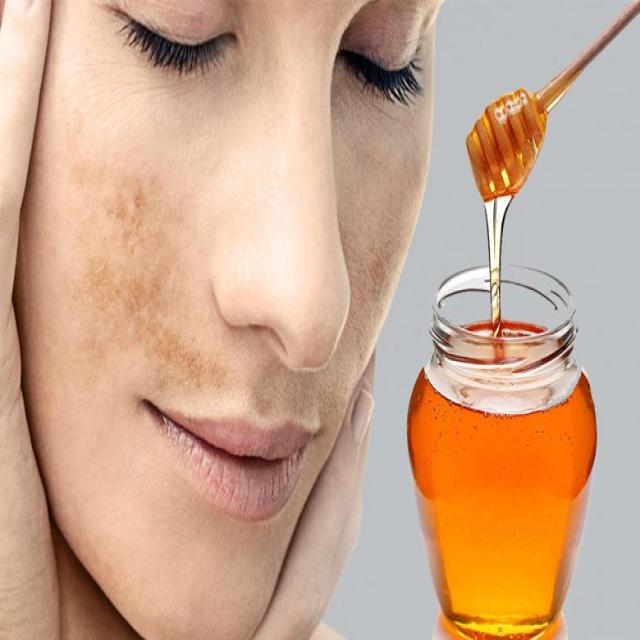Dark-Spots: (55, 146, 236, 398), (362, 144, 430, 346)
